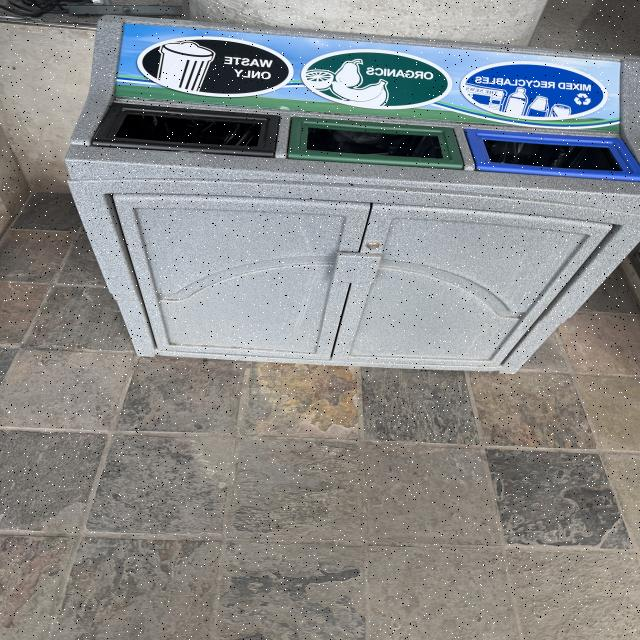Dustbin: (62, 15, 640, 378)
